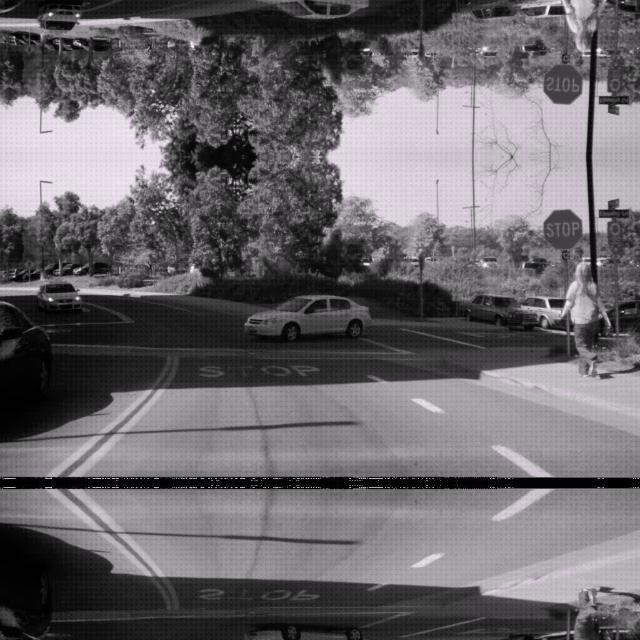pedestrianCrossing: (22, 41, 36, 54), (22, 258, 36, 270)
stop: (542, 208, 582, 248), (542, 64, 582, 104)
